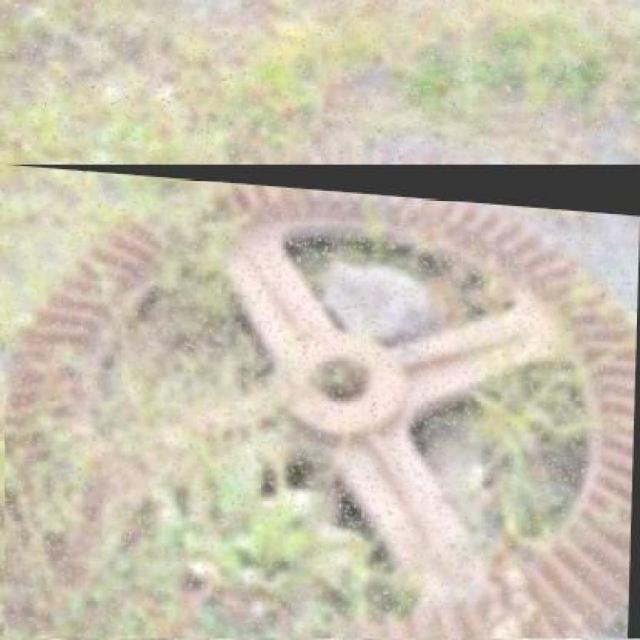Manhole: (4, 164, 640, 638)
